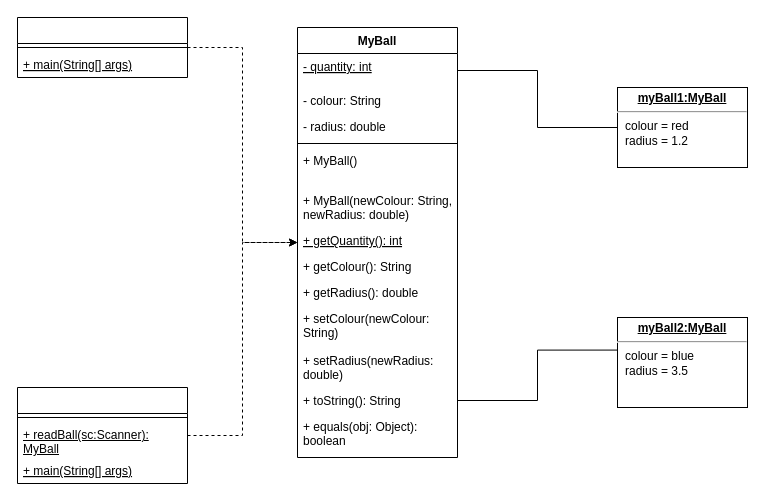
Some shapes in this 765 by 504 pixel diagram are drawn without their labels. The box of each missing label's shape, as (x1, y1, x2, y2) in pixels:
TestBallV1: (16, 16, 188, 78)
TestBallV2: (16, 386, 188, 484)
